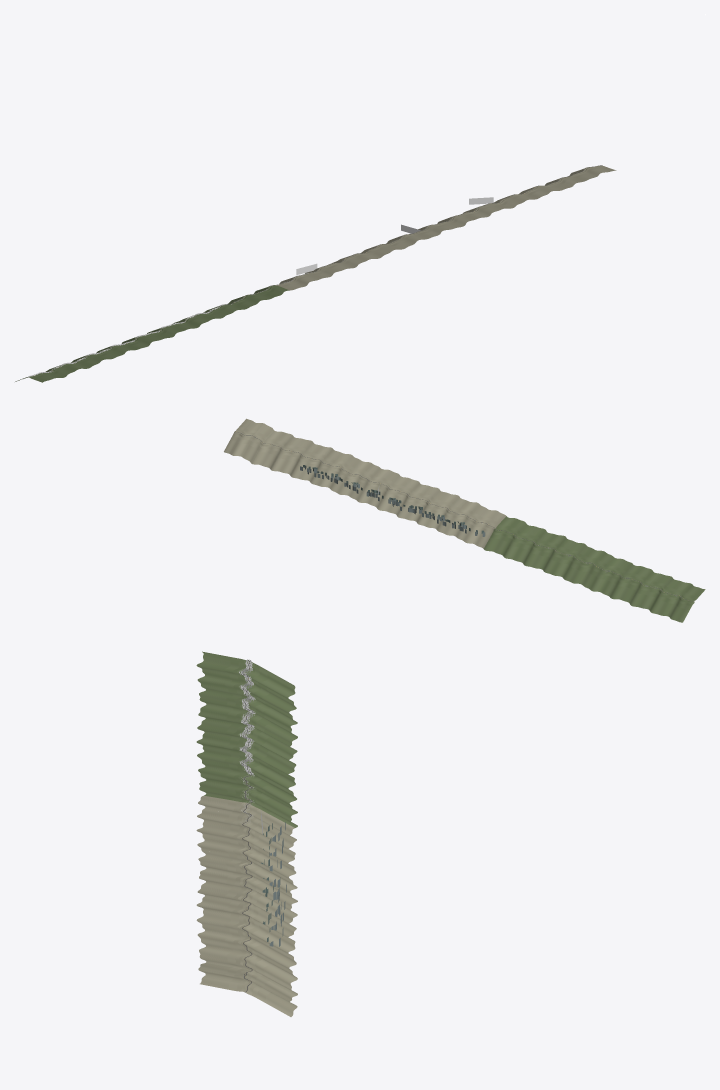
File: mountwashington.glb
3 views of the same model, one above another, from view 1: azimuth 30°, elevation 25°; view 2: azimuth 150°, elevation 25°; view 3: azimuth 270°, elevation 25° (orthographic). The views are drawn at different scales.
Visible parts, largest first — view 1: Land_001, Land_003; view 2: Land_002, Land_003, Land_004, Land_000, Land_001, Land_005, AlpineTalus_048, AlpineTalus_050, AlpineTalus_052, AlpineTalus_027, AlpineTalus_035, AlpineTalus_033 (+13 smaller); view 3: Land_000, Land_004, Land_002, Land_001, Land_003, Land_005, AlpineTalus_048, AlpineTalus_031, AlpineTalus_053, AlpineTalus_046, AlpineTalus_038, AlpineTalus_041 (+4 smaller).
Part boxes in pixels (x1,y1,x2,y2): Land_001: [68, 346, 127, 370]; Land_003: [147, 314, 208, 338]; Land_002: [582, 554, 634, 600]; Land_003: [548, 540, 607, 584]; Land_004: [515, 526, 571, 573]; Land_000: [645, 580, 705, 622]; Land_001: [622, 565, 677, 608]; Land_005: [482, 516, 535, 560]; AlpineTalus_048: [265, 435, 295, 472]; AlpineTalus_050: [245, 431, 275, 466]; AlpineTalus_052: [231, 422, 267, 457]; AlpineTalus_027: [442, 500, 478, 536]; AlpineTalus_035: [372, 477, 405, 512]; AlpineTalus_033: [392, 483, 422, 519]; Land_000: [196, 651, 296, 713]; Land_004: [197, 749, 296, 806]; Land_002: [198, 704, 297, 759]; Land_001: [197, 673, 297, 729]; Land_003: [196, 724, 296, 782]; Land_005: [199, 775, 297, 827]; AlpineTalus_048: [200, 945, 297, 985]; AlpineTalus_031: [197, 838, 295, 878]; AlpineTalus_053: [201, 976, 296, 1016]; AlpineTalus_046: [197, 929, 290, 968]; AlpineTalus_038: [201, 882, 297, 921]; AlpineTalus_041: [196, 899, 293, 936].
Bounding box in the file's own units: 16038 × 2599 × 3705.
